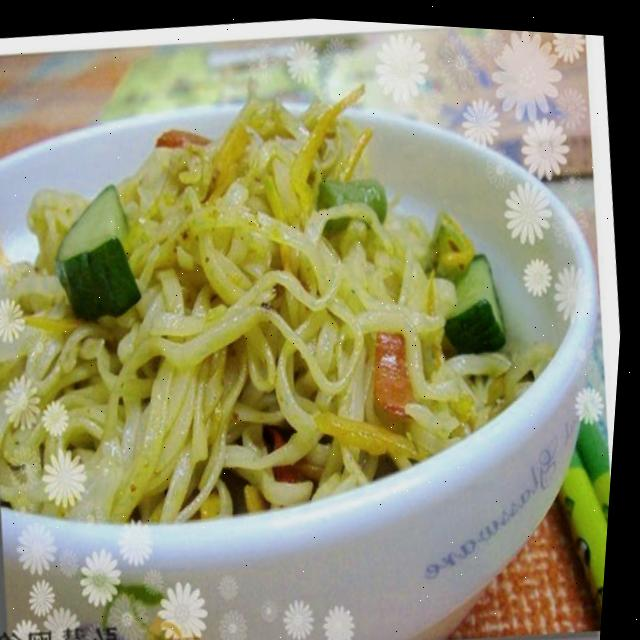面条主食: (0, 35, 574, 594)
